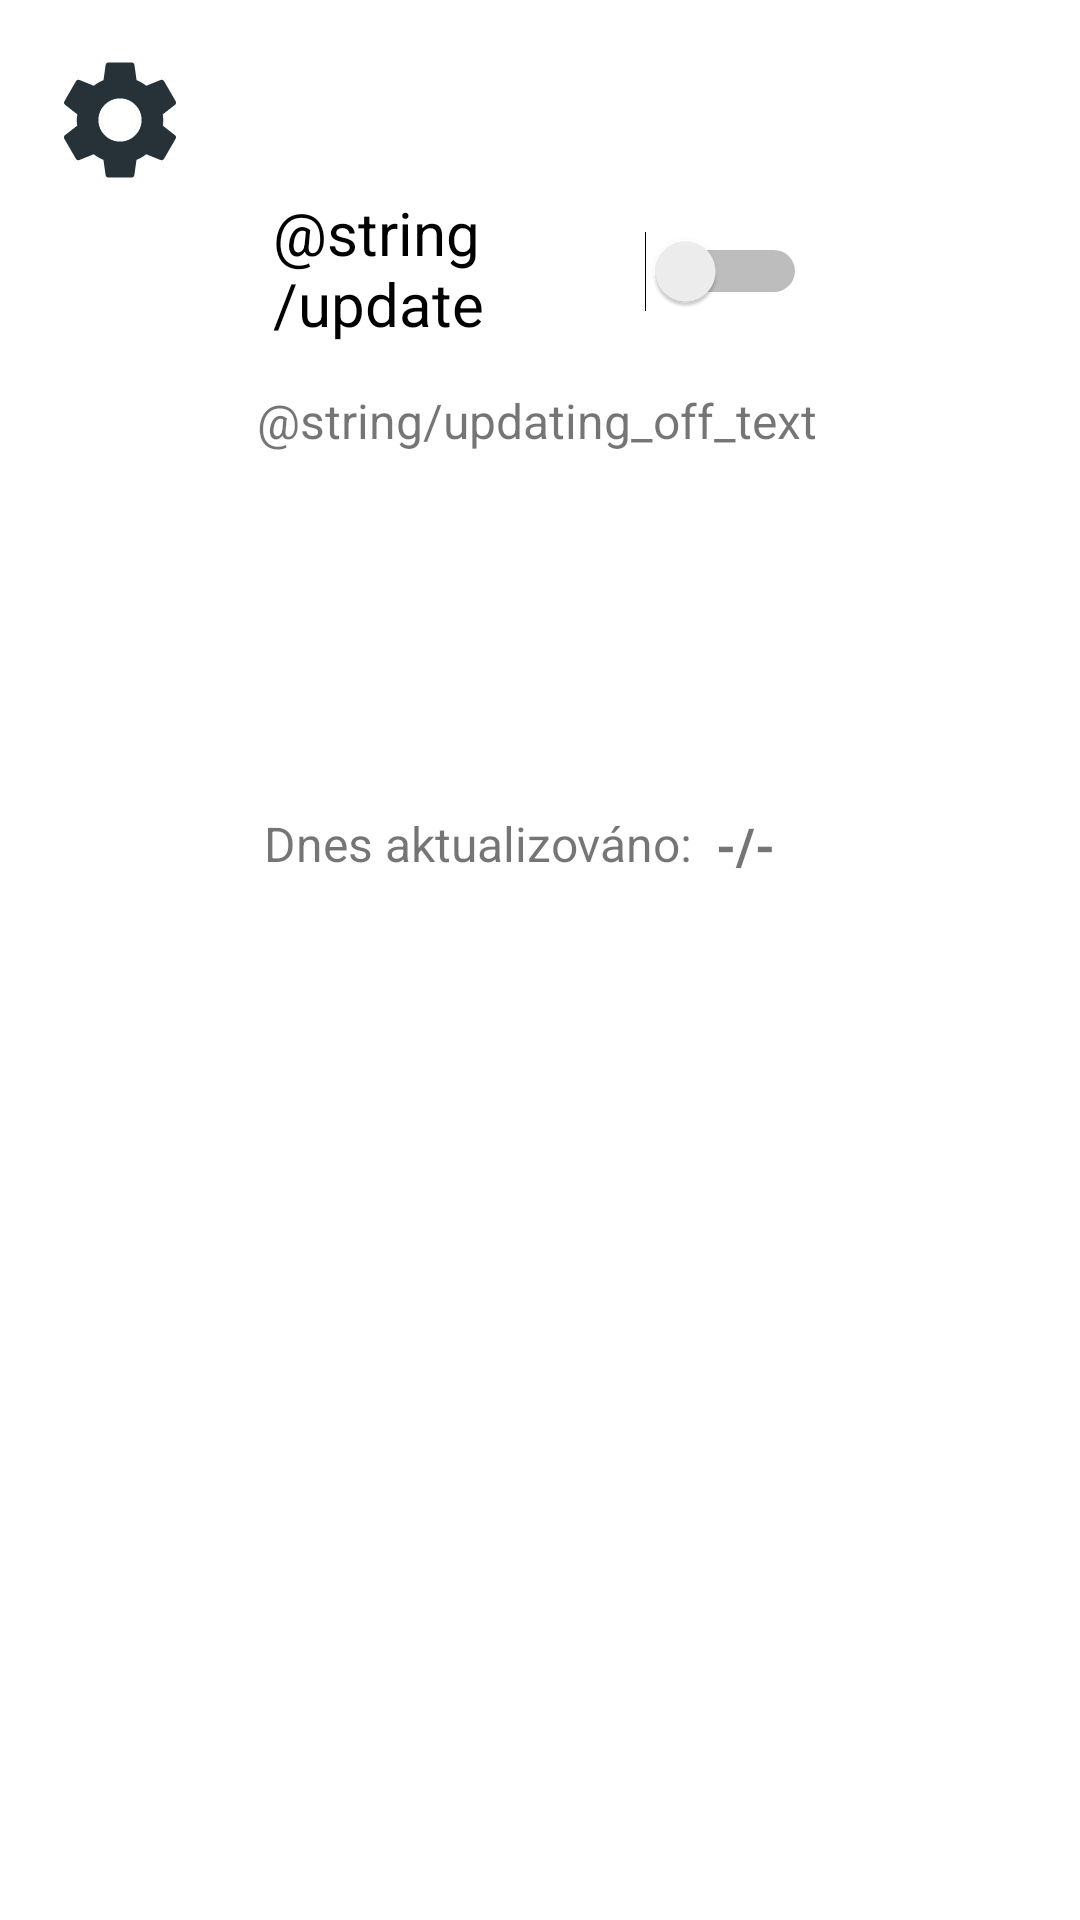

Point at icon controls on the screen. Image size 1080w x 1920h, points as (x,y).
settings: (120,120)
